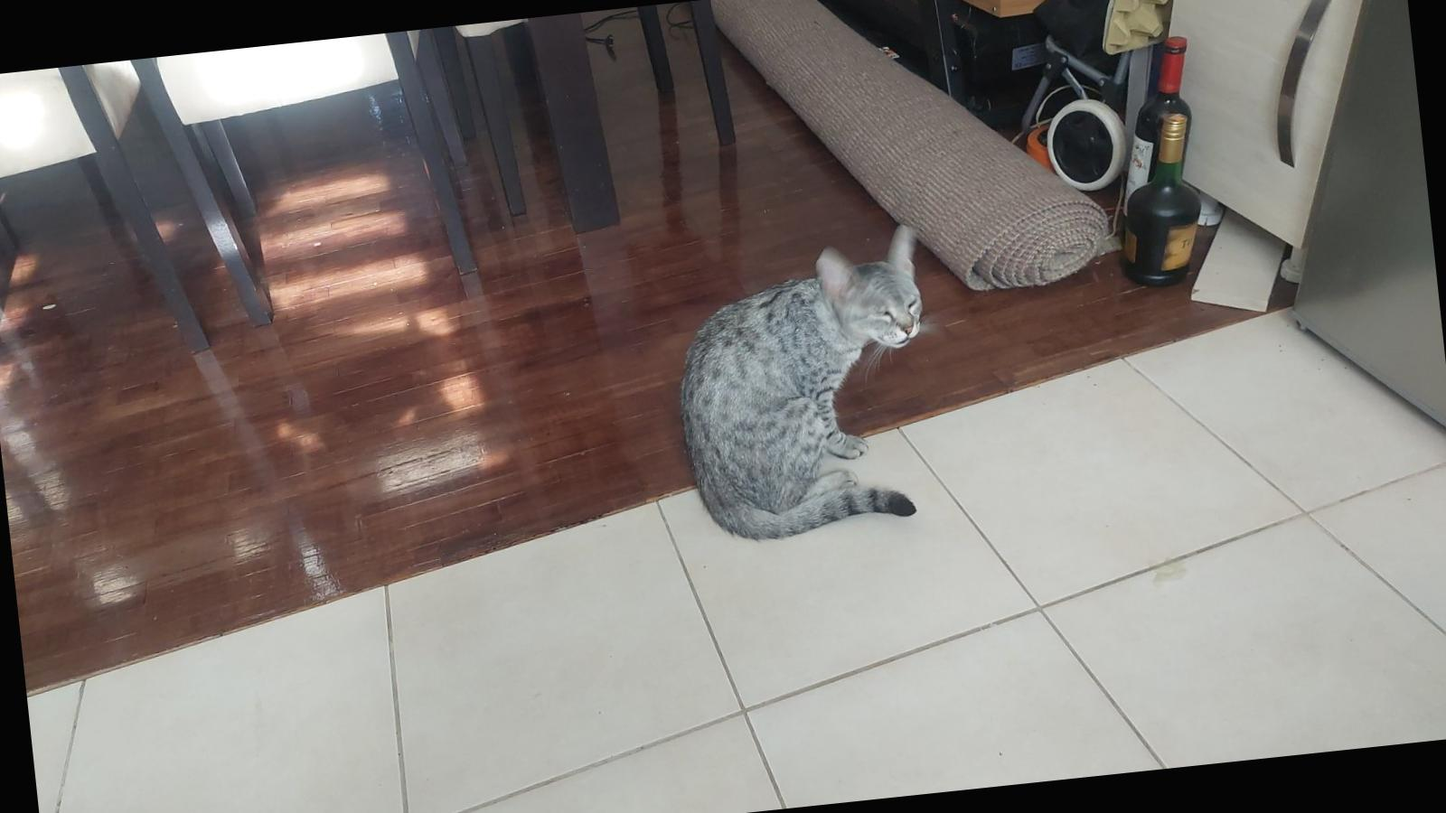macka: (662, 222, 945, 547)
